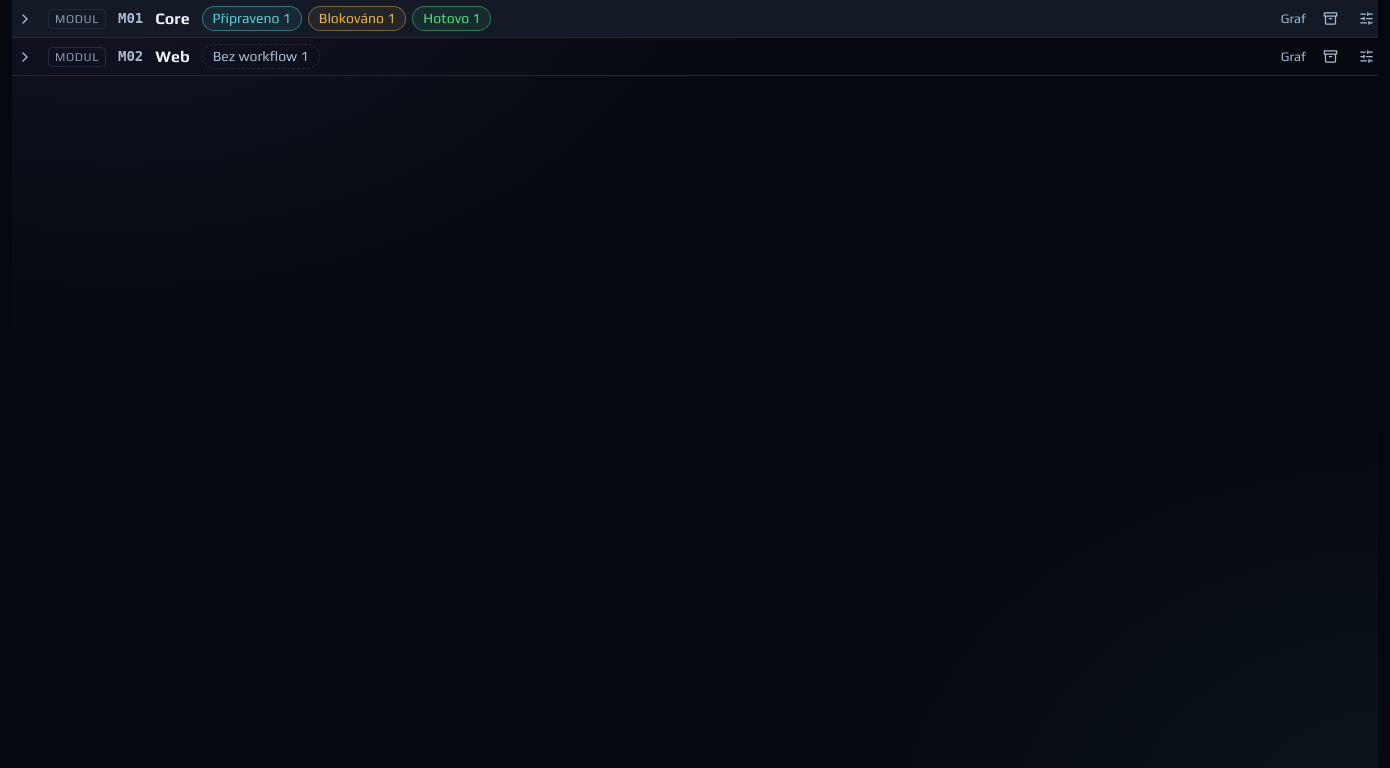
Scenario: BacklogTree › starts folded with the projects visible and folds a branch with its arrow
The width and height of the screenshot is (1390, 768).
Expected: the list item "Modul M01 Core Připraveno 1 Blokováno 1 Hotovo 1 Graf" is shown, [12, 0, 1378, 38]
Expected: the list item "Modul M02 Web Bez workflow 1 Graf" is shown, [12, 38, 1378, 76]
What coordinates should you click on to do the following:
click the button with test id "toggle" in the row of "M01"
I would click on:
 (25, 18)
Its box is [14, 8, 36, 30].
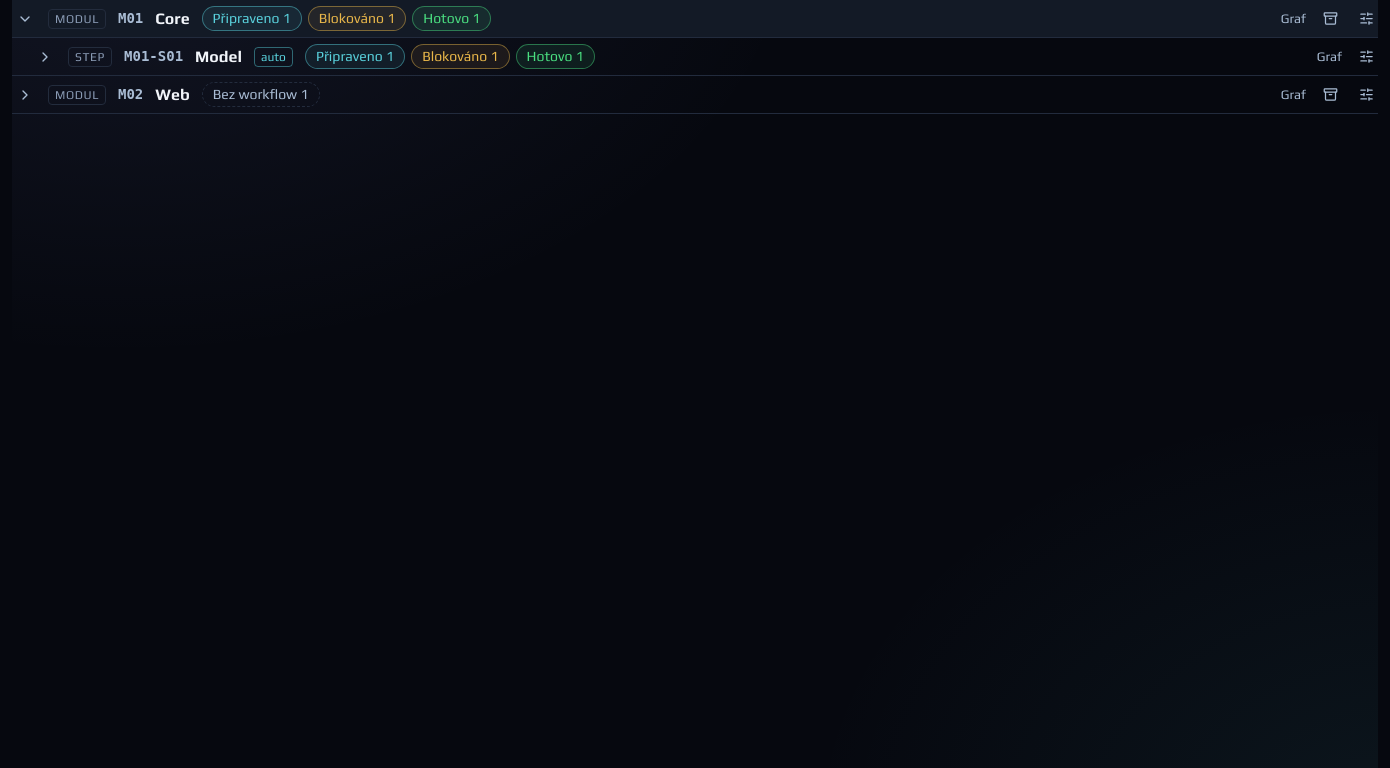
Expected: the button with test id "toggle" is expanded, [14, 8, 36, 30]
Expected: the list item that starts with "Step" is shown, [12, 38, 1378, 76]
What coordinates should you click on to do the following:
click the button with test id "toggle" next to "Step"
I would click on:
 (45, 56)
Its box is [34, 46, 56, 68].
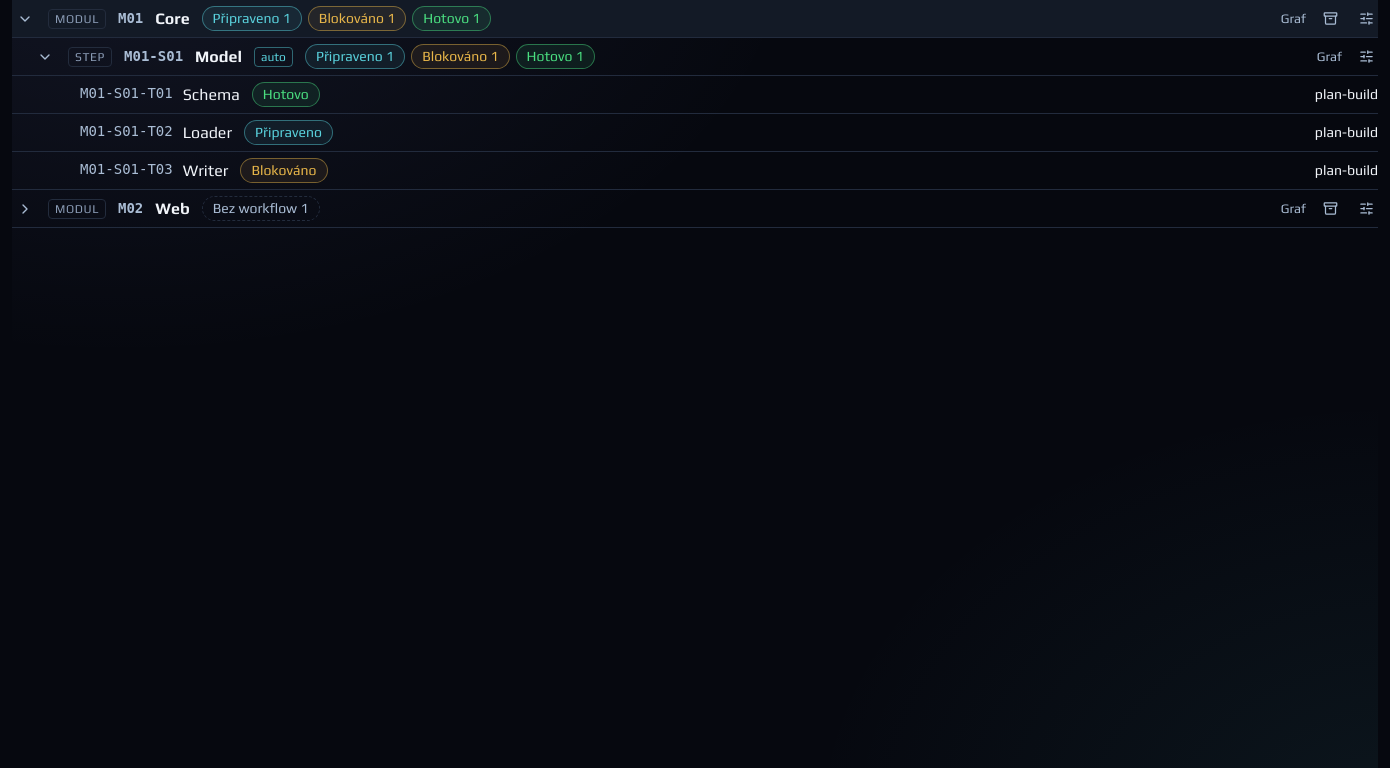
What coordinates should you click on to do the following:
click the button with test id "toggle" in the row of "Core"
I would click on:
 (25, 18)
Its box is [14, 8, 36, 30].
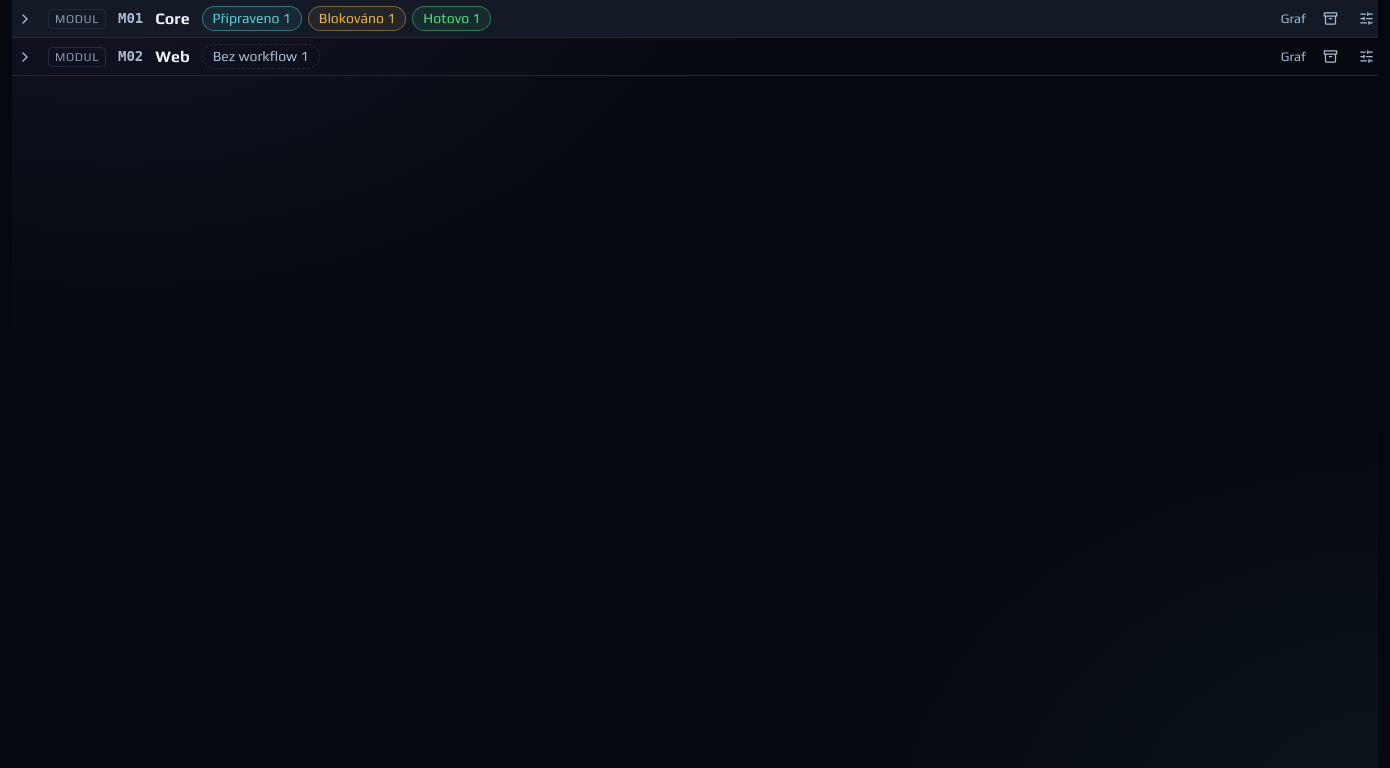
What coordinates should you click on to do the following:
click the button with test id "toggle" in the row of "M01"
I would click on:
 (25, 18)
Its box is [14, 8, 36, 30].
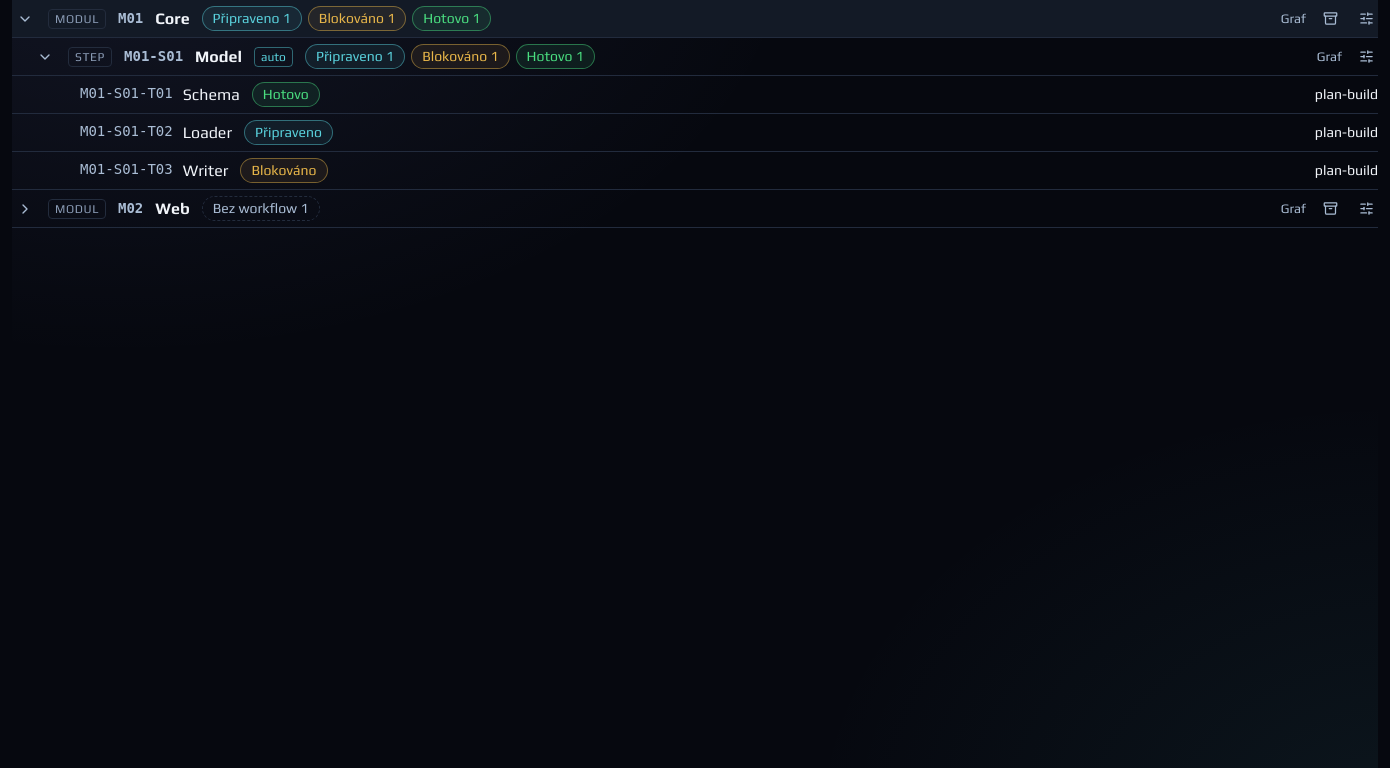
Expected: the list item "M01-S01-T01 Schema Hotovo plan-build" is shown, [12, 76, 1378, 114]
